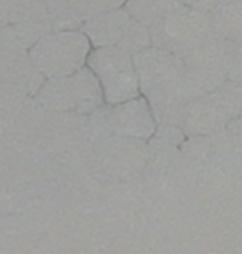fissura: (26, 1, 189, 150)
